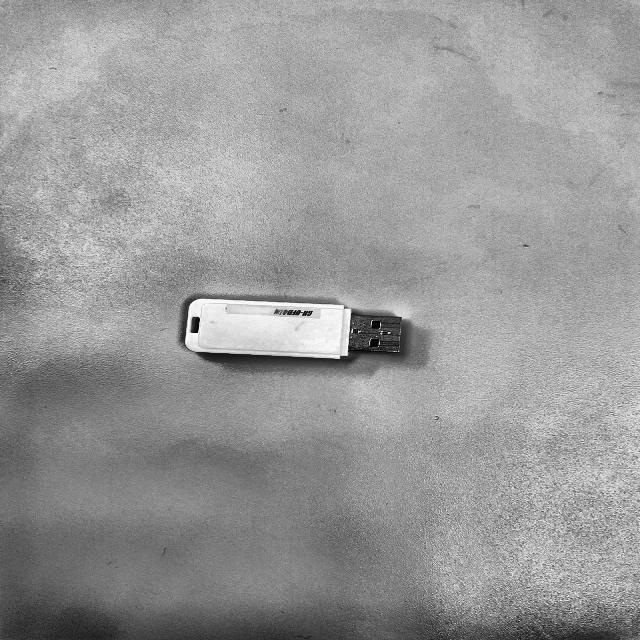Mug: (160, 283, 430, 375)
